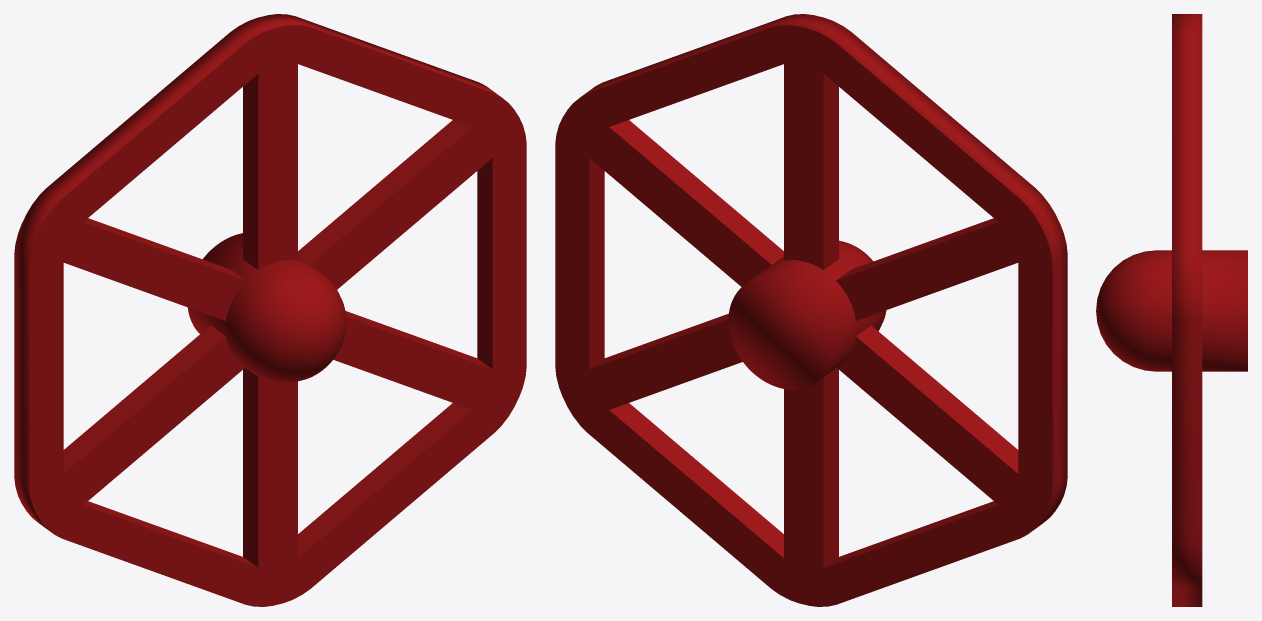
Rendered from Items.fbx_Valve.fbx.
3 renders of one model, left to right at view 1: azimuth 30°, elevation 25°; view 2: azimuth 150°, elevation 25°; view 3: azimuth 270°, elevation 25°, orthographic.
Visible parts, largest first — view 1: Valve; view 2: Valve; view 3: Valve.
Boxes of the visible parts, x1,y1,x2,y2 form: Valve: (14, 14, 526, 606); Valve: (555, 14, 1067, 606); Valve: (1096, 14, 1247, 606).
Size of the model in its own units: 37.77 by 41.89 by 10.
